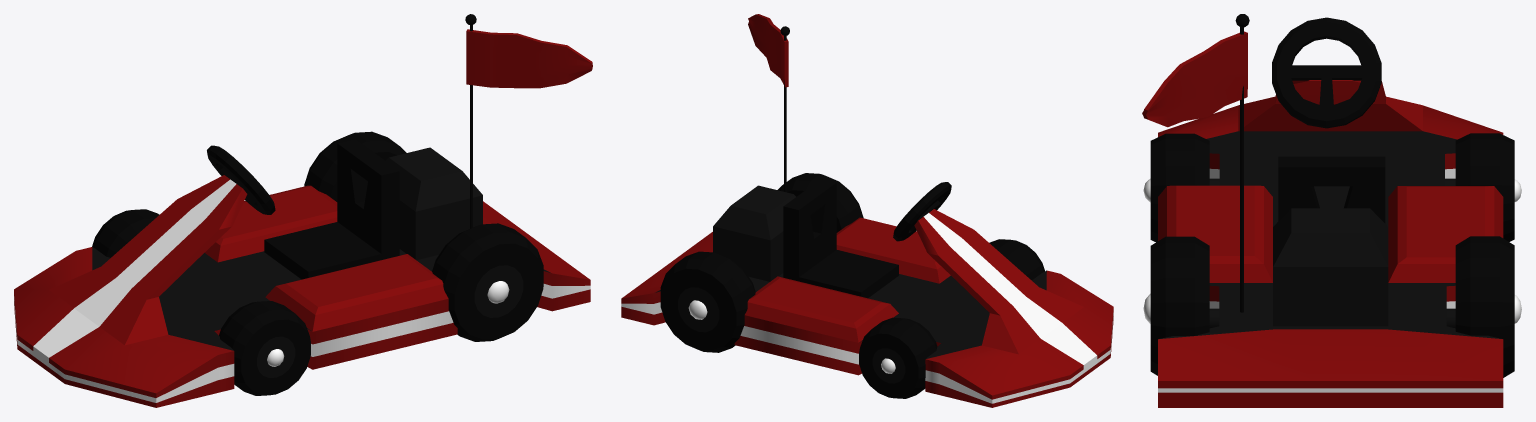
Rendered from racecar.glb.
3 views of the same model, side by side, from view 1: azimuth 30°, elevation 25°; view 2: azimuth 150°, elevation 25°; view 3: azimuth 270°, elevation 25° (orthographic). The views are drawn at different scales.
Visible parts, largest first — view 1: Buffer Layer (×4); view 2: Buffer Layer (×4); view 3: Buffer Layer (×4).
Boxes of the visible parts, x1=… form: Buffer Layer (×4): x1=14, y1=14, x2=592, y2=407; Buffer Layer (×4): x1=621, y1=14, x2=1113, y2=407; Buffer Layer (×4): x1=1142, y1=14, x2=1521, y2=407.
Size of the model in its own units: 0.0725 by 0.0436 by 0.041.
